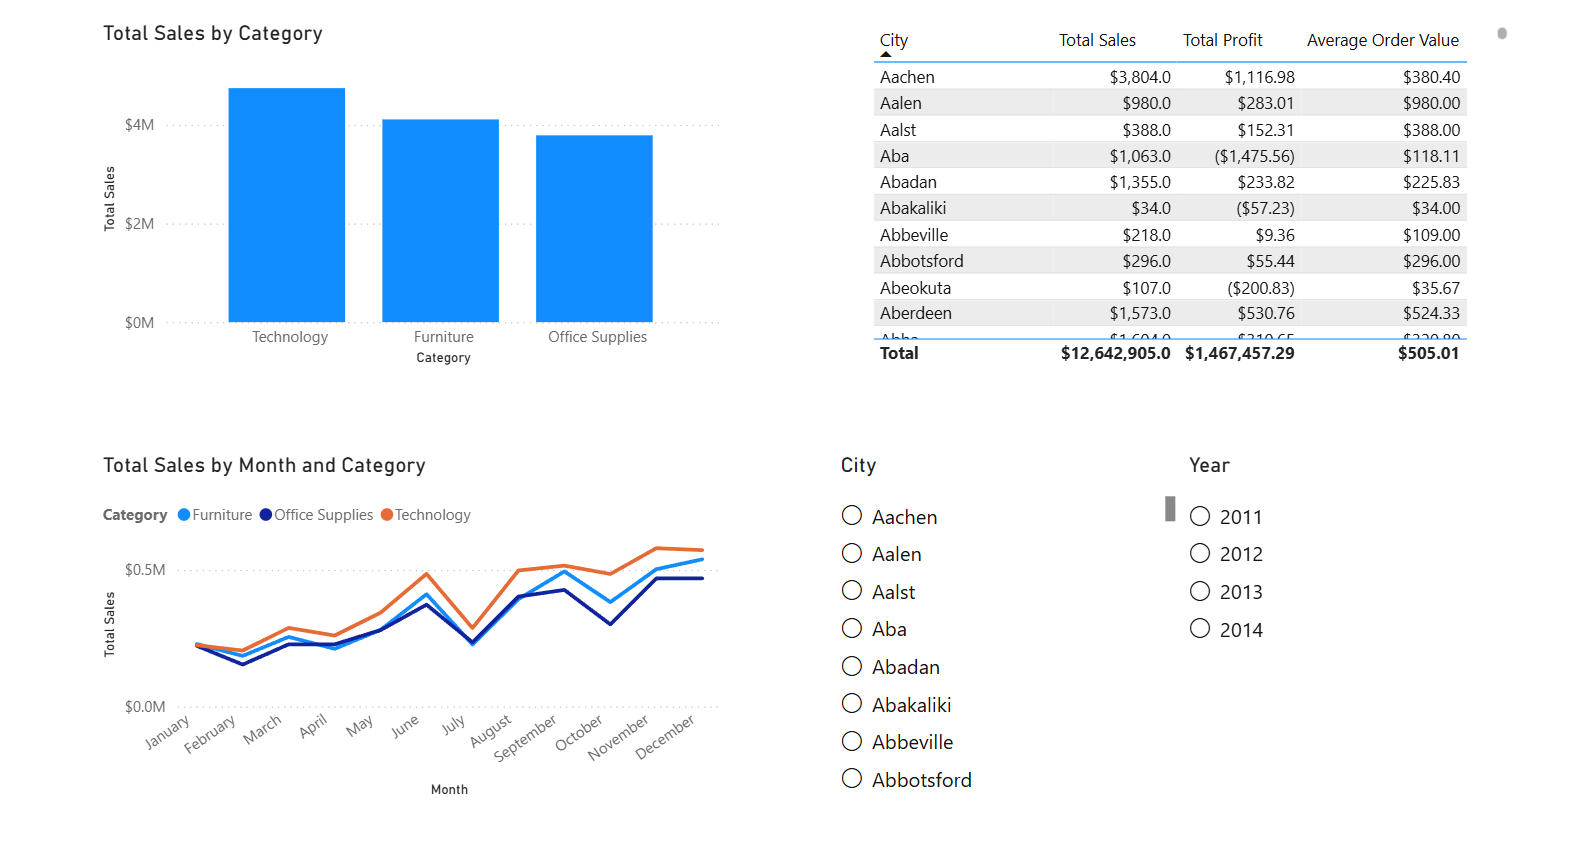

The page's visual inventory and layout, read from the dashboard file:
{"tool":"powerbi","page":{"name":"Sales Analysis","canvas":[1280,720],"ordinal":1},"visuals":[{"type":"clusteredColumnChart","fields":{"Category":["Global Superstore.Category"],"Y":["DAX_Measures.Total Sales"]},"box":[92.2,31.1,502.7,280.1],"z":0},{"type":"lineChart","fields":{"Category":["DateTable.Month"],"Y":["DAX_Measures.Total Sales"],"Series":["Global Superstore.Category"]},"box":[92.2,375.9,502.7,280.1],"z":1000},{"type":"tableEx","fields":{"Values":["Region.City","DAX_Measures.Total Sales","DAX_Measures.Total Profit","DAX_Measures.Average Order Value"]},"box":[706.2,31.1,517.1,280.1],"z":2000},{"type":"listSlicer","fields":{"Values":["Region.City"]},"box":[681.1,375.9,277.7,280.1],"z":3000},{"type":"listSlicer","fields":{"Values":["DateTable.Year"]},"box":[958.8,375.9,264.5,280.1],"z":4000}]}

Visuals, with their boxes in screenshot pixels (x1, y1, x2, y2), scaled from the page's 1280x720 canvas onto the 1569x864 screenshot:
clusteredColumnChart - Global Superstore.Category x DAX_Measures.Total Sales: BBox(113, 37, 729, 373)
lineChart - DateTable.Month x DAX_Measures.Total Sales: BBox(113, 451, 729, 787)
tableEx - Region.City x DAX_Measures.Total Sales: BBox(866, 37, 1499, 373)
listSlicer - Region.City: BBox(835, 451, 1175, 787)
listSlicer - DateTable.Year: BBox(1175, 451, 1499, 787)
